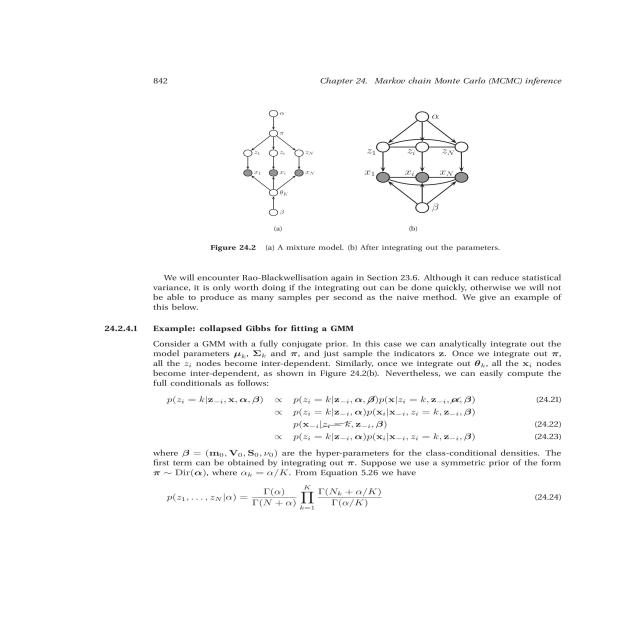diagram: (15, 96, 618, 256)
